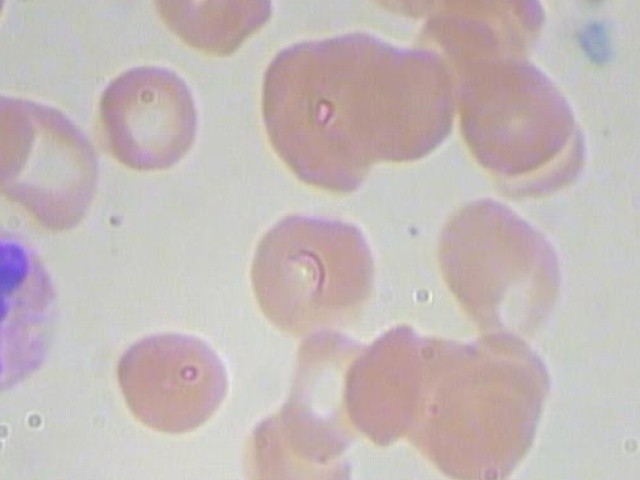Platelets: (557, 17, 619, 74)
RBC: (246, 209, 377, 347), (450, 43, 581, 180), (329, 36, 459, 166), (0, 93, 112, 235), (427, 188, 549, 309), (107, 323, 236, 436), (87, 59, 216, 172), (418, 367, 540, 480), (142, 0, 282, 64), (0, 76, 39, 189), (0, 0, 8, 56)
WBC: (0, 215, 88, 406)
